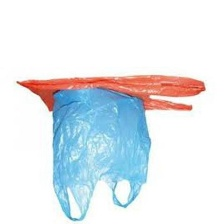plastic_bag: (48, 83, 152, 223), (11, 65, 210, 121)
